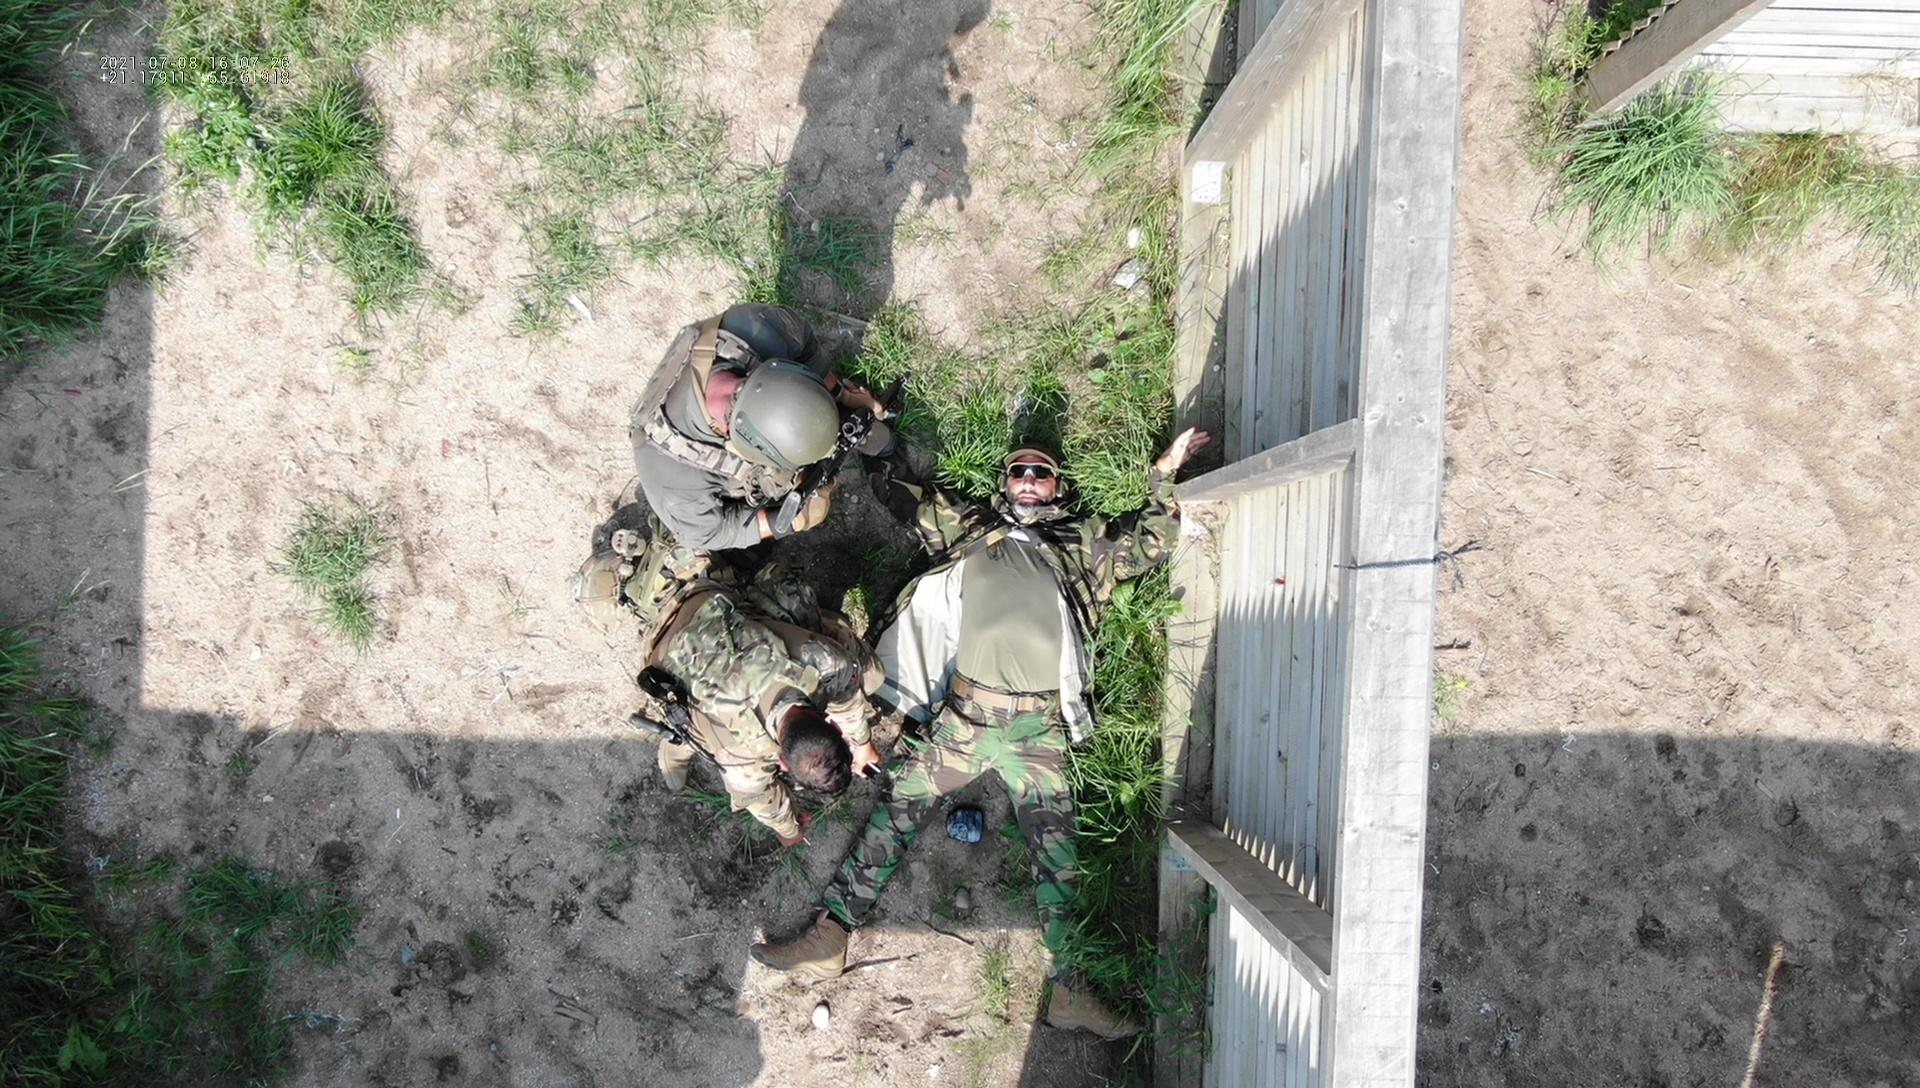Soldier: (843, 448, 1228, 1026), (607, 334, 932, 607), (607, 579, 914, 830)
